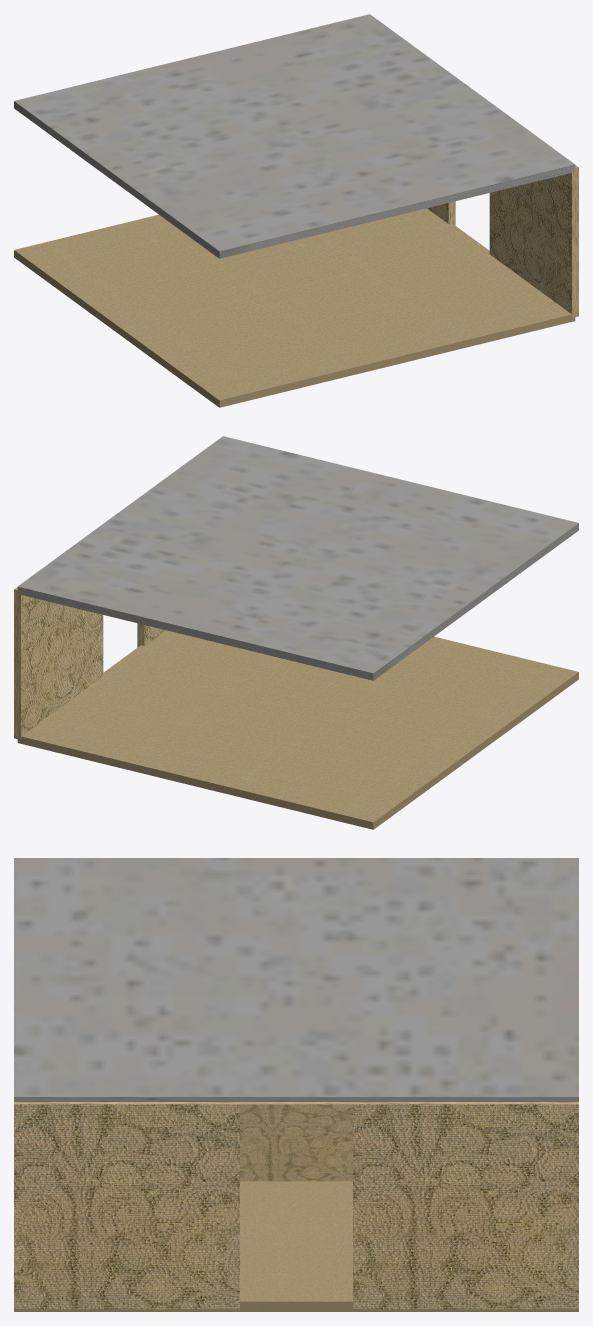
Rendered from room_door.gltf.
3 views of the same model, one above another, from view 1: azimuth 30°, elevation 25°; view 2: azimuth 150°, elevation 25°; view 3: azimuth 270°, elevation 25° (orthographic). The views are drawn at different scales.
Parts seen in each view (by area): view 1: MeshInstance3D2, MeshInstance3D, MeshInstance3D4; view 2: MeshInstance3D2, MeshInstance3D, MeshInstance3D3; view 3: MeshInstance3D2, MeshInstance3D3, MeshInstance3D4, MeshInstance3D, MeshInstance3D5.
Part boxes in pixels (left/top/right/bottom): MeshInstance3D2: left=14, top=14, right=575, bottom=258; MeshInstance3D: left=14, top=208, right=575, bottom=407; MeshInstance3D4: left=489, top=165, right=578, bottom=317; MeshInstance3D2: left=17, top=436, right=578, bottom=680; MeshInstance3D: left=17, top=630, right=578, bottom=829; MeshInstance3D3: left=14, top=587, right=103, bottom=739; MeshInstance3D2: left=14, top=858, right=578, bottom=1101; MeshInstance3D3: left=353, top=1102, right=578, bottom=1309; MeshInstance3D4: left=14, top=1102, right=239, bottom=1309; MeshInstance3D: left=14, top=1181, right=578, bottom=1311; MeshInstance3D5: left=240, top=1102, right=352, bottom=1181.
Bounding box in the file's own units: 10.1 × 4.2 × 10.
5 materials, 3 textured.
